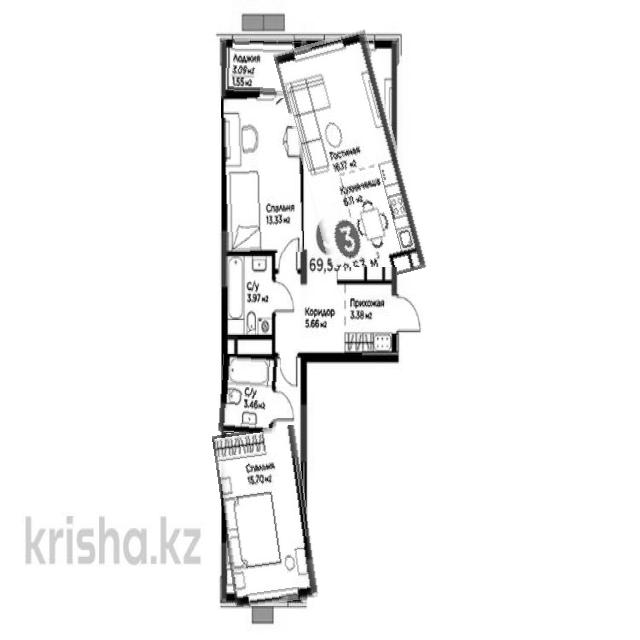balcony: (223, 40, 303, 98)
bathroom: (222, 255, 275, 357), (220, 355, 280, 434)
hallway: (271, 267, 397, 356)
living_room: (218, 428, 313, 606), (223, 95, 303, 254)
studio: (288, 33, 414, 287)
